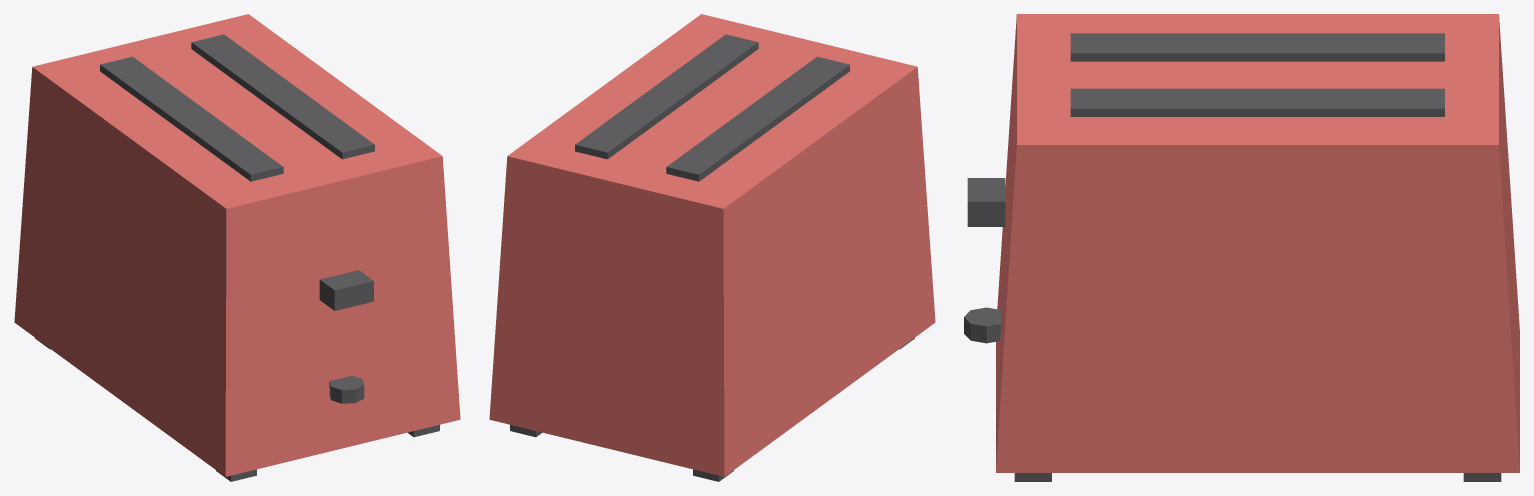
Rendered from toaster.glb.
3 renders of one model, left to right at view 1: azimuth 30°, elevation 25°; view 2: azimuth 150°, elevation 25°; view 3: azimuth 270°, elevation 25°, orthographic. The views are drawn at different scales.
Size of the model in its own units: 0.18 by 0.205 by 0.297.
